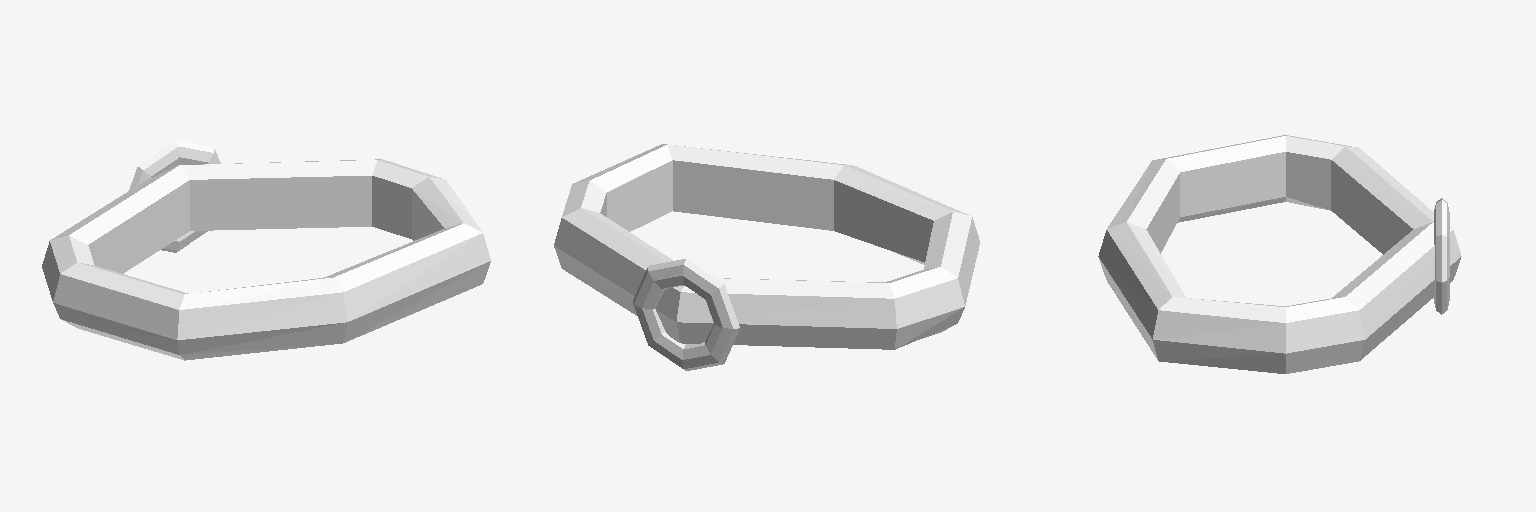
The model's file is Belt.obj.
3 renders of one model, left to right at view 1: azimuth 30°, elevation 25°; view 2: azimuth 150°, elevation 25°; view 3: azimuth 270°, elevation 25°, orthographic.
Parts seen in each view (by area): view 1: Belt; view 2: Belt; view 3: Belt.
Boxes of the visible parts, x1=… form: Belt: x1=42, y1=140, x2=490, y2=360; Belt: x1=554, y1=144, x2=979, y2=370; Belt: x1=1098, y1=135, x2=1461, y2=373.
Size of the model in its own units: 0.4102 by 0.1106 by 0.3225.